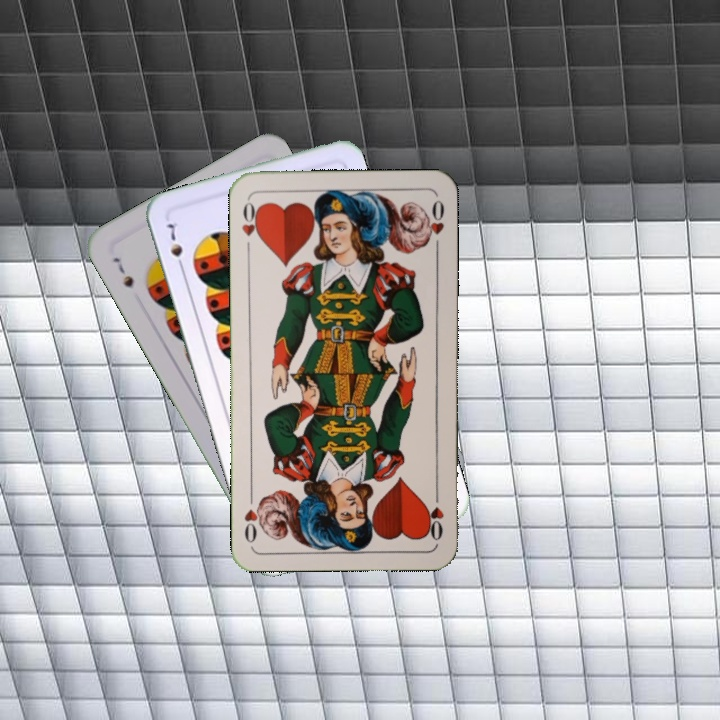HO: (238, 196, 263, 255), (424, 485, 447, 544)
S7: (163, 216, 187, 274), (108, 253, 136, 291)
